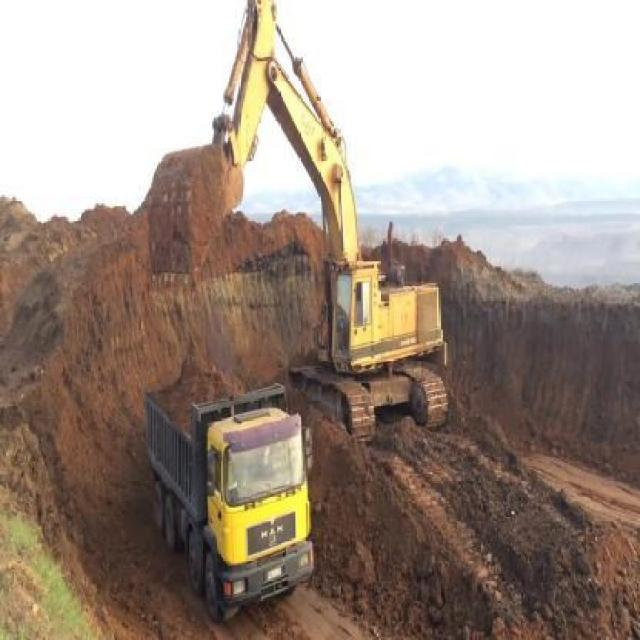Excavator: (139, 0, 446, 435), (148, 380, 315, 618)
